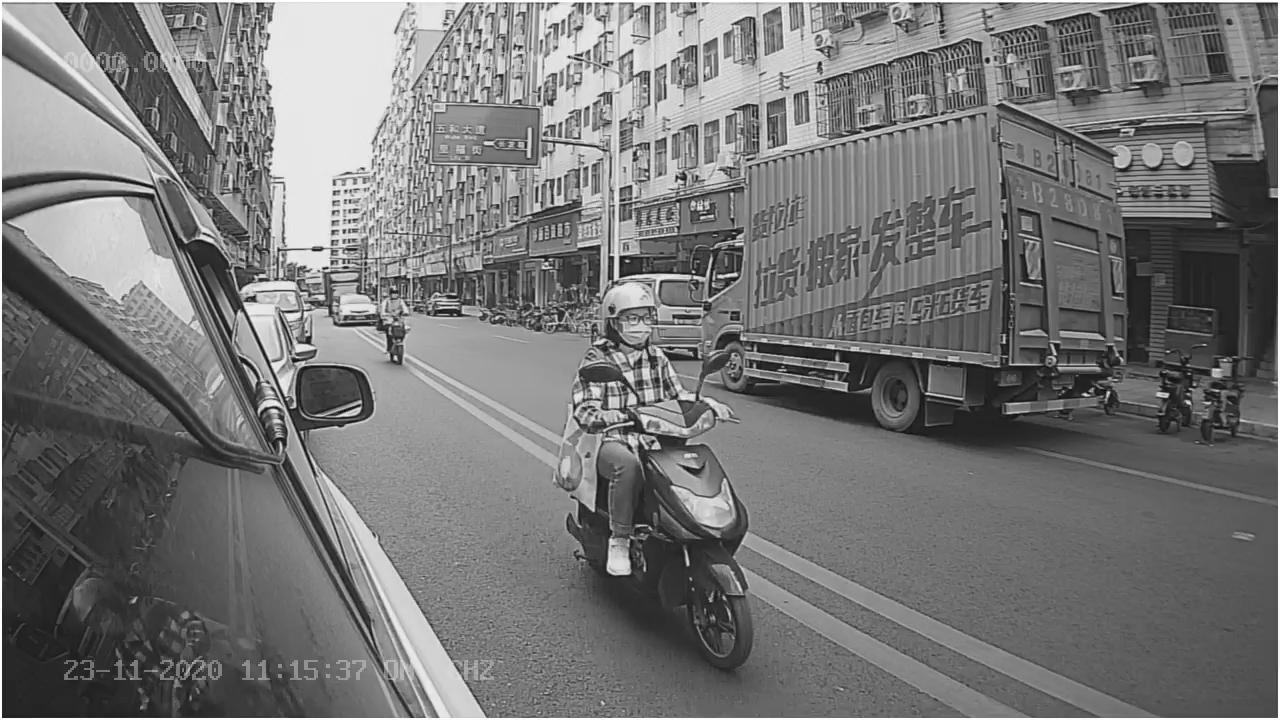person: (563, 278, 729, 410)
